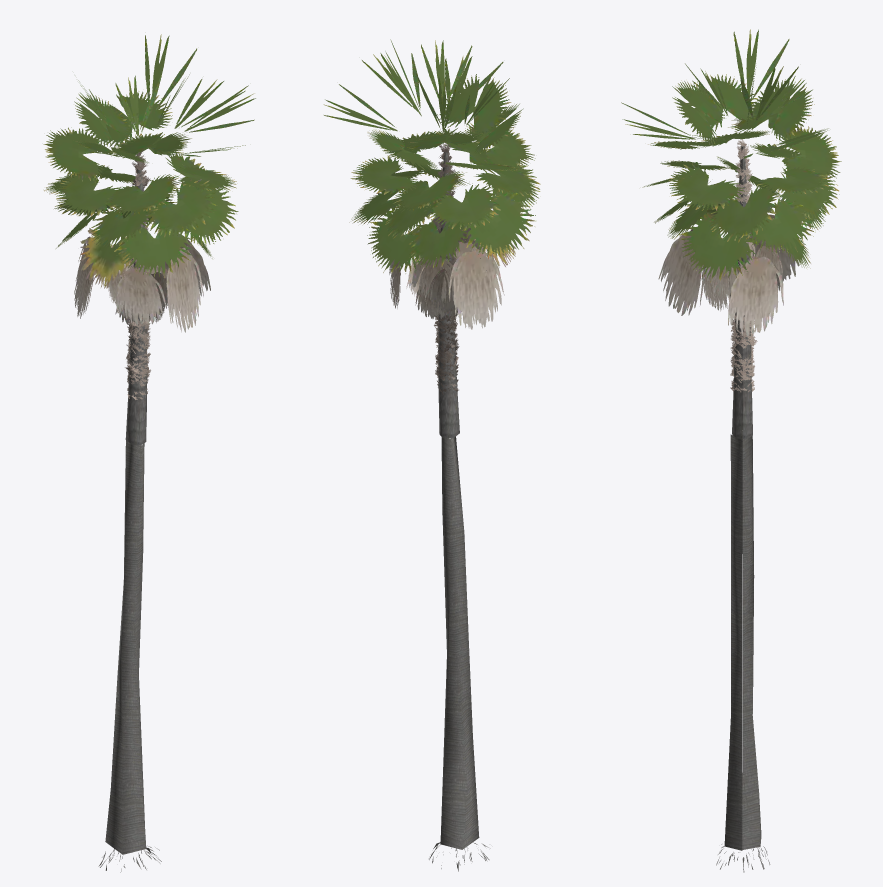
Rendered from palm_washingtonia_tall_lod1.glb.
3 views of the same model, side by side, from view 1: azimuth 30°, elevation 25°; view 2: azimuth 150°, elevation 25°; view 3: azimuth 270°, elevation 25° (orthographic). The views are drawn at different scales.
Visible parts, largest first — view 1: palm_washingtonia_tall_lod1; view 2: palm_washingtonia_tall_lod1; view 3: palm_washingtonia_tall_lod1.
Boxes of the visible parts, x1,y1,x2,y2 form: palm_washingtonia_tall_lod1: [43, 34, 255, 872]; palm_washingtonia_tall_lod1: [323, 39, 540, 871]; palm_washingtonia_tall_lod1: [621, 29, 841, 872].
Size of the model in its own units: 5.17 by 16.84 by 4.91.
2 materials, 2 textured.
